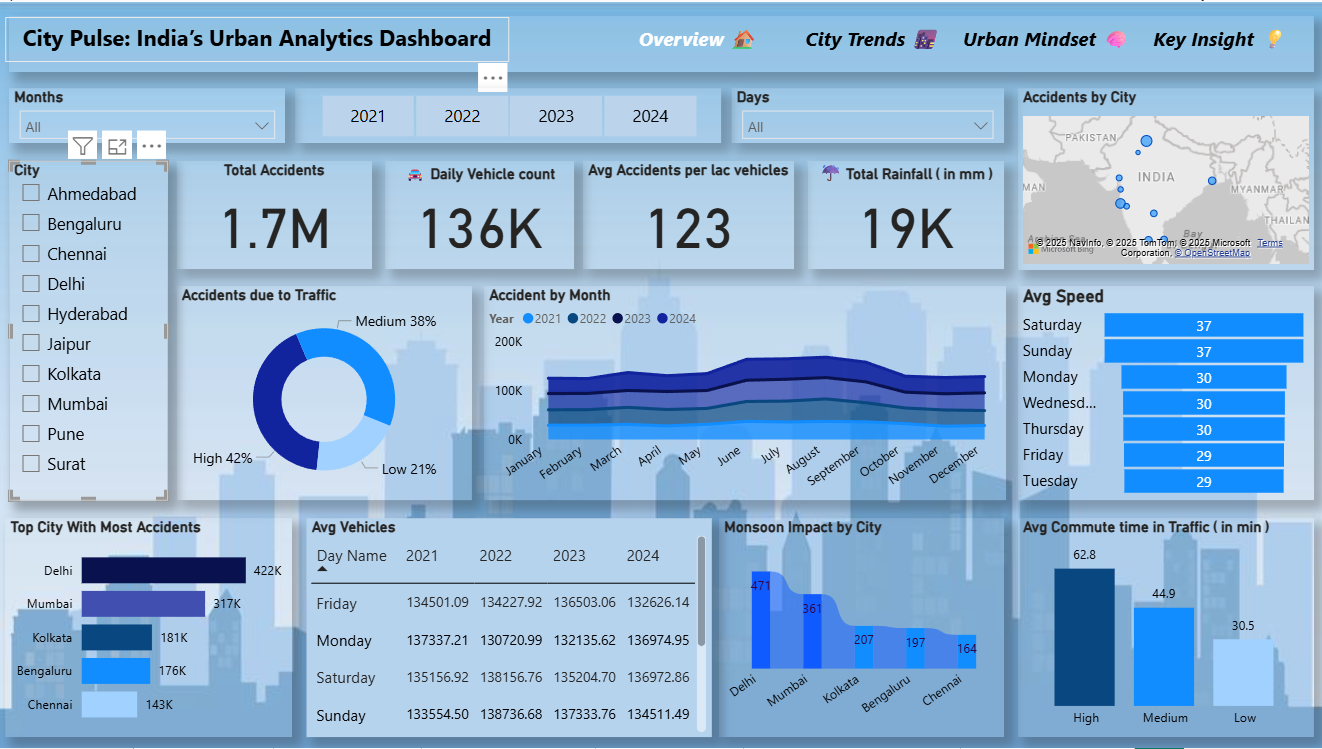

What the dashboard file says about the page in this screenshot:
{"tool":"powerbi","page":{"name":"Overview 🏠","canvas":[1280,720],"ordinal":0},"visuals":[{"type":"shape","box":[9.9,13.6,1259.3,54.3],"z":0},{"type":"stackedAreaChart","title":"Accident by Month","fields":{"Category":["Date Table.Month Name"],"Y":["Sum(Data.Accident_reported)"],"Series":["Date Table.Year"]},"box":[467.9,274.1,503.7,207.4],"z":1000},{"type":"map","title":"Accidents by City","fields":{"Category":["Data.City"],"Size":["Sum(Data.Accident_reported)"]},"box":[983.2,83.2,285.9,190.6],"z":2000},{"type":"barChart","title":"Top City With Most Accidents","fields":{"Category":["Data.City"],"Y":["Sum(Data.Accident_reported)"]},"box":[6.2,498.8,276.5,211.1],"z":3000},{"type":"card","title":"Total Accidents ","fields":{"Values":["Sum(Data.Accident_reported)"]},"box":[171.6,153.1,188.9,104.9],"z":4000},{"type":"donutChart","title":"Accidents due to Traffic ","fields":{"Category":["Data.Traffic_Density"],"Y":["Sum(Data.Accident_reported)"]},"box":[171.6,274.1,285.2,207.4],"z":5000},{"type":"ribbonChart","fields":{"Category":["Data.City"],"Y":["Data.Monsoon Impact"]},"box":[695.1,498.8,275.3,211.1],"z":6000},{"type":"textbox","box":[6,14.5,486.2,43.4],"z":7000},{"type":"slicer","fields":{"Values":["Date Table.Year"]},"box":[286.4,82.7,411.1,53.1],"z":8000},{"type":"slicer","title":"City","fields":{"Values":["Data.City"]},"box":[9.9,153.1,153.1,328.4],"z":9000},{"type":"slicer","title":"Days","fields":{"Values":["Date Table.Day Name"]},"box":[707,83.2,263,53.1],"z":10000},{"type":"columnChart","title":"Avg Commute time in Traffic ( in min )","fields":{"Category":["Data.Traffic_Density"],"Y":["Avg(Data.Commute_time_min)"]},"box":[983.2,498.3,285.9,211.1],"z":11000},{"type":"card","title":"🚘 Daily Vehicle count ","fields":{"Values":["Avg(Data.Vehicle_count)"]},"box":[372.8,153.2,182.2,105],"z":12000},{"type":"pageNavigator","box":[589.9,13.3,674.4,44.6],"z":13000},{"type":"slicer","title":"Months","fields":{"Values":["Date Table.Month Name"]},"box":[9.9,82.7,266.7,53.1],"z":14000},{"type":"pivotTable","title":"Avg Vehicles ","fields":{"Rows":["Date Table.Day Name"],"Values":["Avg(Data.Vehicle_count)"],"Columns":["Date Table.Year"]},"box":[296.8,498.3,390.9,211.1],"z":15000},{"type":"card","title":"☔ Total Rainfall ( in mm )","fields":{"Values":["Sum(Data.Rainfall_mm)"]},"box":[780.6,153.2,189.4,105],"z":16000},{"type":"card","title":"Avg Accidents per lac vehicles","fields":{"Values":["Data.Accident Rate"]},"box":[563.4,153.2,203.9,105],"z":17000},{"type":"funnel","title":"Avg Speed ","fields":{"Category":["Date Table.Day Name"],"Y":["Avg(Data.Avg_Speed_Km)"]},"box":[983.2,273.9,285.9,207.5],"z":18000}]}

Visuals, with their boxes on the page's 1280x720 design canvas (x1, y1, x2, y2). These are canvas units, not pixel positions in the 1322x749 screenshot, which may show the page scaled, cropped or inside an application window:
shape: <region>10, 14, 1269, 68</region>
"Accident by Month" stackedAreaChart: <region>468, 274, 972, 482</region>
"Accidents by City" map: <region>983, 83, 1269, 274</region>
"Top City With Most Accidents" barChart: <region>6, 499, 283, 710</region>
"Total Accidents " card: <region>172, 153, 360, 258</region>
"Accidents due to Traffic " donutChart: <region>172, 274, 457, 482</region>
ribbonChart - Data.City x Data.Monsoon Impact: <region>695, 499, 970, 710</region>
textbox: <region>6, 14, 492, 58</region>
slicer - Date Table.Year: <region>286, 83, 698, 136</region>
"City" slicer: <region>10, 153, 163, 482</region>
"Days" slicer: <region>707, 83, 970, 136</region>
"Avg Commute time in Traffic ( in min )" columnChart: <region>983, 498, 1269, 709</region>
"🚘 Daily Vehicle count " card: <region>373, 153, 555, 258</region>
pageNavigator: <region>590, 13, 1264, 58</region>
"Months" slicer: <region>10, 83, 277, 136</region>
"Avg Vehicles " pivotTable: <region>297, 498, 688, 709</region>
"☔ Total Rainfall ( in mm )" card: <region>781, 153, 970, 258</region>
"Avg Accidents per lac vehicles" card: <region>563, 153, 767, 258</region>
"Avg Speed " funnel: <region>983, 274, 1269, 481</region>
